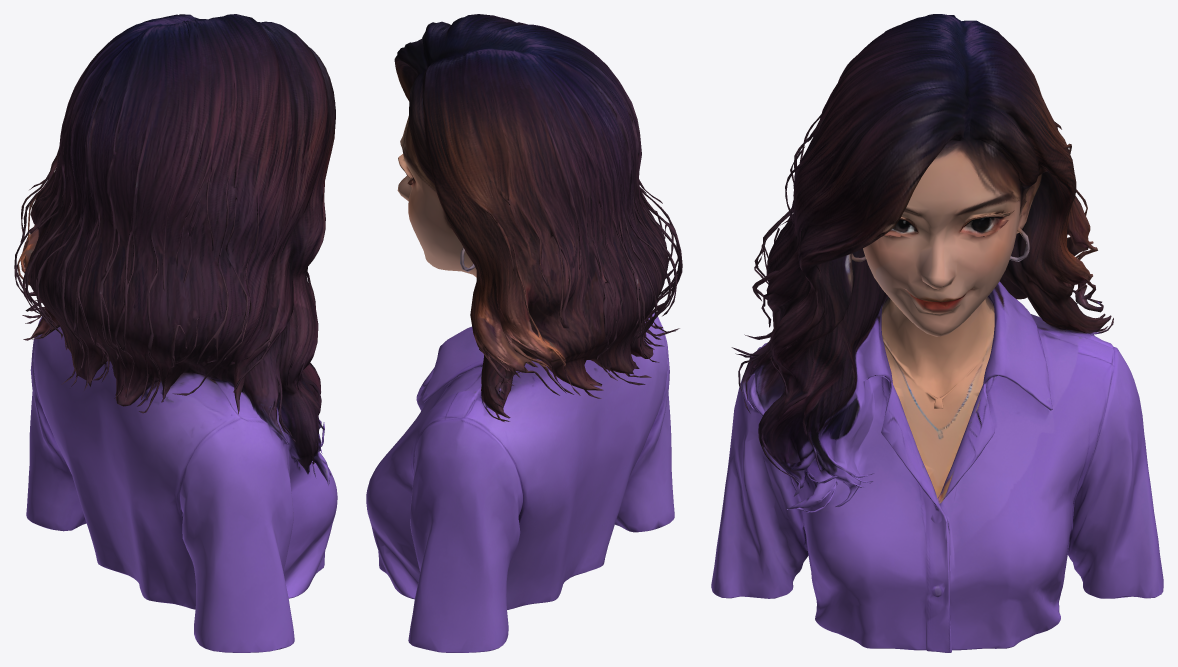
File: jinyu-avatar.glb
3 renders of one model, left to right at view 1: azimuth 30°, elevation 25°; view 2: azimuth 150°, elevation 25°; view 3: azimuth 270°, elevation 25°, orthographic. The views are drawn at different scales.
Visible parts, largest first — view 1: virtuall_node_0; view 2: virtuall_node_0; view 3: virtuall_node_0.
Boxes of the visible parts, <box> form: virtuall_node_0: <box>14,14,337,652</box>; virtuall_node_0: <box>366,14,682,652</box>; virtuall_node_0: <box>711,14,1163,652</box>.
Bounding box in the file's own units: 0.5349 × 1 × 0.722.
Materials: 1 (1 with a texture image).
